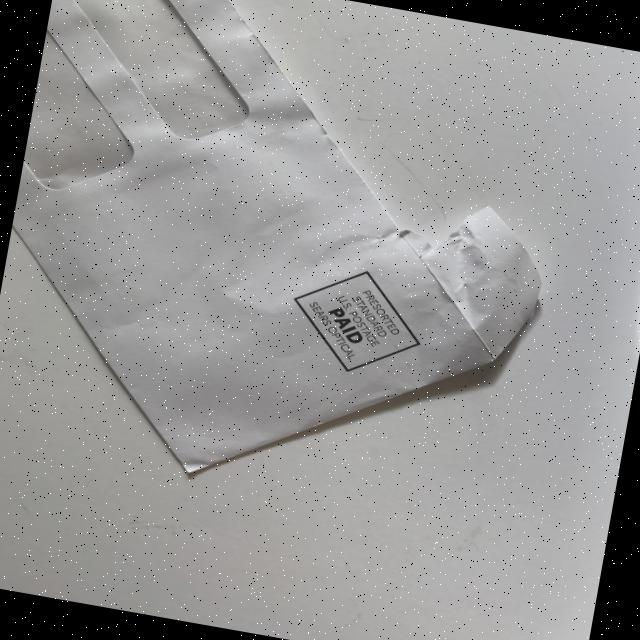paper: (0, 0, 586, 529)
